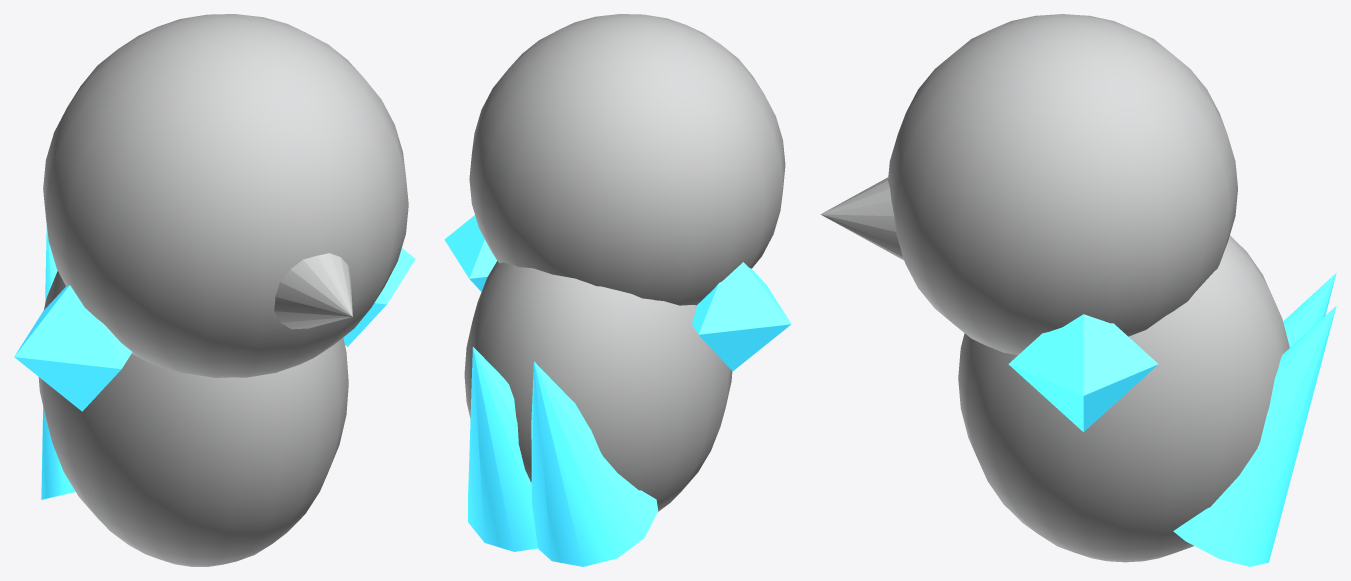
File: lumi_stage2.glb
3 renders of one model, left to right at view 1: azimuth 30°, elevation 25°; view 2: azimuth 150°, elevation 25°; view 3: azimuth 270°, elevation 25°, orthographic. The views are drawn at different scales.
Parts seen in each view (by area): view 1: Head, Body, Lumi_S2; view 2: Head, Body, Lumi_S2; view 3: Head, Body, Lumi_S2.
Part boxes in pixels (box(x1,y1,x2,y2)): Head: box(43, 14, 408, 377); Body: box(14, 248, 415, 566); Lumi_S2: box(41, 226, 75, 499); Head: box(469, 14, 785, 305); Body: box(444, 215, 791, 511); Lumi_S2: box(468, 347, 658, 566); Head: box(820, 14, 1237, 354); Body: box(958, 235, 1289, 562); Lumi_S2: box(1173, 273, 1336, 566).
Size of the model in its own units: 1.25 by 1.63 by 1.46.
